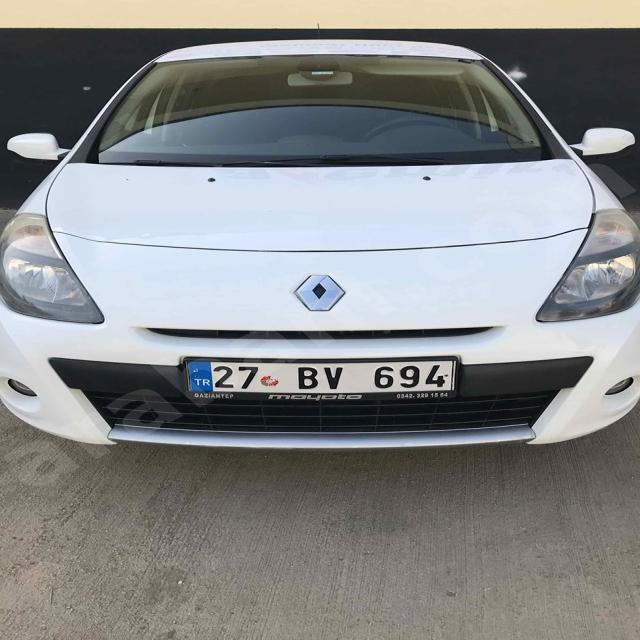license_plate: (185, 360, 455, 392)
